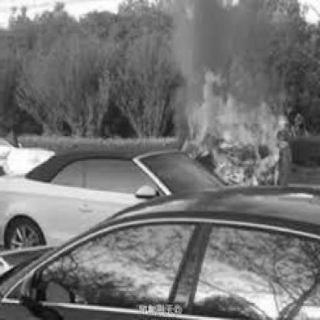Fire: (144, 73, 292, 197)
